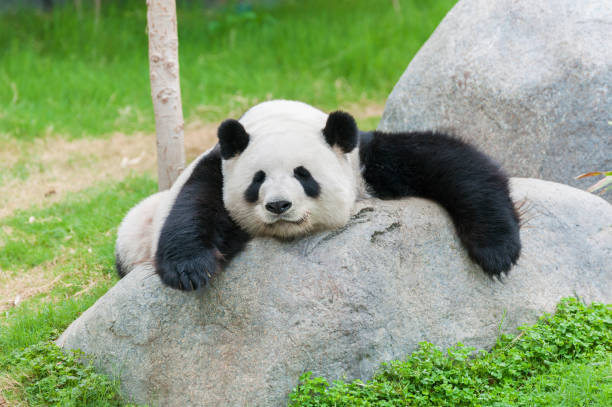panda: (196, 103, 377, 258)
